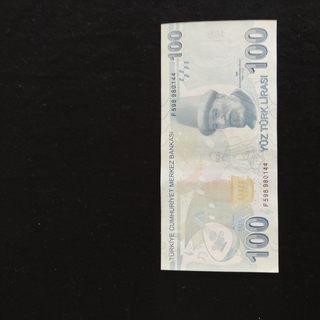100TLBack: (159, 18, 280, 275)
